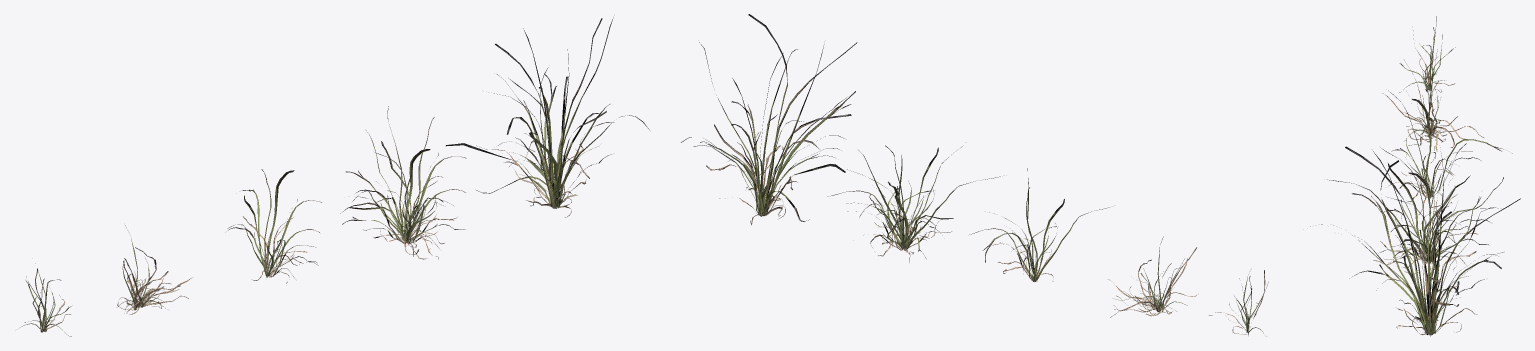
Rendered from grass_medium_02.glb.
The picture shows the model from 3 angles, left to right: view 1: azimuth 30°, elevation 25°; view 2: azimuth 150°, elevation 25°; view 3: azimuth 270°, elevation 25°; orthographic projection. The views are drawn at different scales.
Parts seen in each view (by area): view 1: grass_medium_02_e, grass_medium_02_d, grass_medium_02_c, grass_medium_02_b, grass_medium_02_a; view 2: grass_medium_02_e, grass_medium_02_d, grass_medium_02_c, grass_medium_02_b, grass_medium_02_a; view 3: grass_medium_02_e, grass_medium_02_d, grass_medium_02_c, grass_medium_02_b, grass_medium_02_a.
Part boxes in pixels (bbox=[...]): grass_medium_02_e: bbox=[446, 17, 649, 217]; grass_medium_02_d: bbox=[340, 106, 466, 259]; grass_medium_02_c: bbox=[227, 169, 321, 283]; grass_medium_02_b: bbox=[117, 225, 192, 314]; grass_medium_02_a: bbox=[20, 263, 71, 336]; grass_medium_02_e: bbox=[681, 14, 857, 225]; grass_medium_02_d: bbox=[827, 145, 1000, 262]; grass_medium_02_c: bbox=[969, 168, 1109, 281]; grass_medium_02_b: bbox=[1108, 236, 1197, 317]; grass_medium_02_a: bbox=[1209, 270, 1268, 335]; grass_medium_02_e: bbox=[1310, 146, 1520, 336]; grass_medium_02_d: bbox=[1327, 143, 1503, 274]; grass_medium_02_c: bbox=[1388, 90, 1512, 214]; grass_medium_02_b: bbox=[1382, 49, 1483, 151]; grass_medium_02_a: bbox=[1399, 16, 1455, 92].
Size of the model in its own units: 1.31 by 0.4053 by 0.4326.
1 material, 1 textured.
